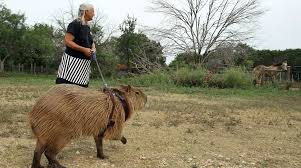capivara: (25, 83, 148, 168)
